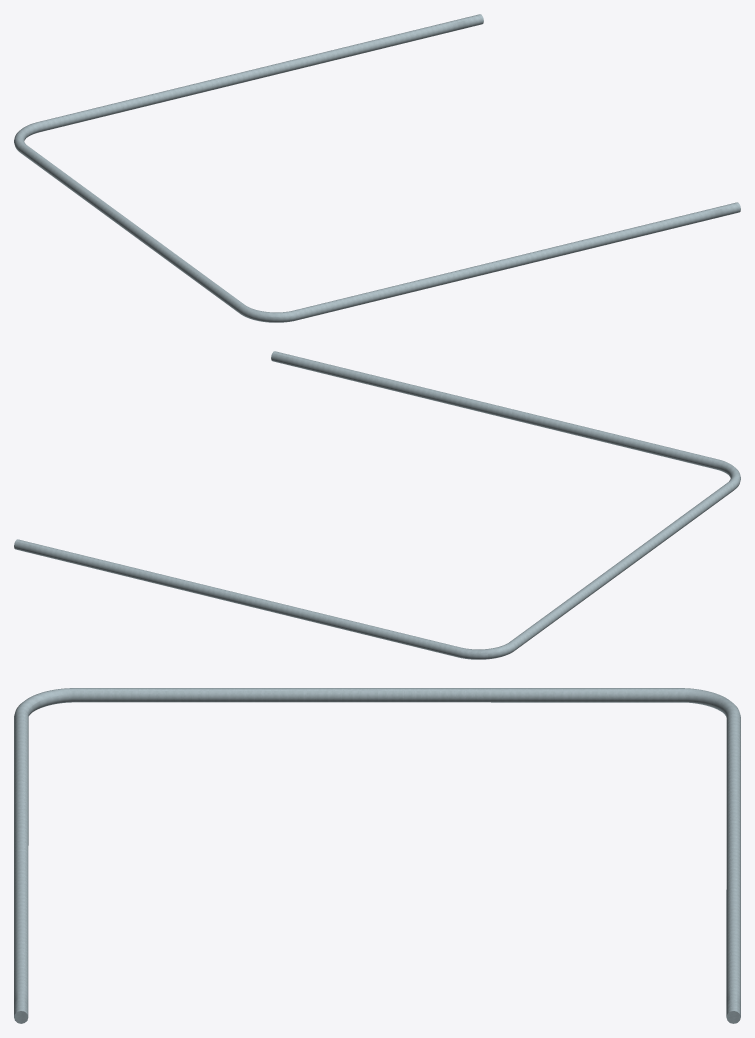
File: 21-rolled-tin-rim-149.2-1.fbx
The picture shows the model from 3 angles, top to bottom: view 1: azimuth 30°, elevation 25°; view 2: azimuth 150°, elevation 25°; view 3: azimuth 270°, elevation 25°; orthographic projection. The views are drawn at different scales.
Visible parts, largest first — view 1: rolled-tin-rim-149.2-1; view 2: rolled-tin-rim-149.2-1; view 3: rolled-tin-rim-149.2-1.
Part boxes in pixels (<box>): rolled-tin-rim-149.2-1: <box>14,14,740,322</box>; rolled-tin-rim-149.2-1: <box>14,351,740,659</box>; rolled-tin-rim-149.2-1: <box>14,688,740,1023</box>.
Bounding box in the file's own units: 8530 × 160 × 8059.
1 material, 1 textured.
